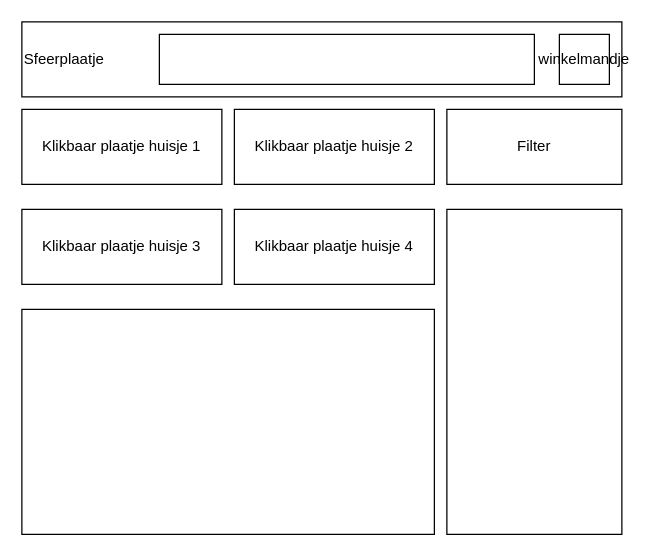
Image size: 651x556. Some labels were removed from this diagram. Each missing label, with the centre of its shape:
kaart Nederland: the point at 227,421
Site-naam: the point at 346,58
tekst over waarom jij hier je BnB moet huren: the point at 534,371
